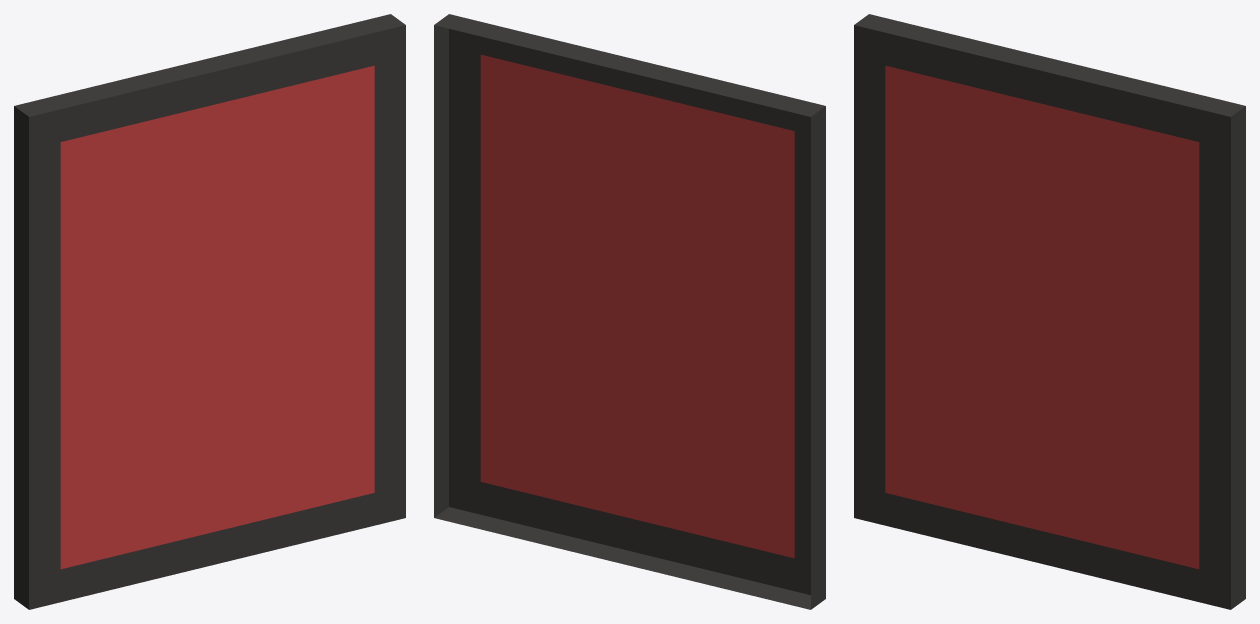
File: Paint_1.fbx
3 views of the same model, side by side, from view 1: azimuth 30°, elevation 25°; view 2: azimuth 150°, elevation 25°; view 3: azimuth 330°, elevation 25° (orthographic).
Visible parts, largest first — view 1: polySurface860; view 2: polySurface860; view 3: polySurface860.
Boxes of the visible parts, x1=… form: polySurface860: x1=14, y1=14, x2=405, y2=609; polySurface860: x1=434, y1=14, x2=825, y2=609; polySurface860: x1=854, y1=14, x2=1245, y2=609.
Size of the model in its own units: 1.08 by 1.35 by 0.075.
1 material, 1 textured.
